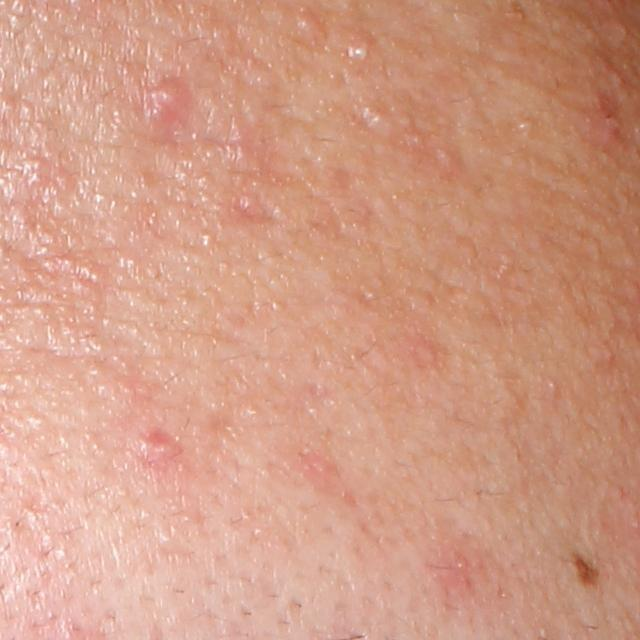comedo: (360, 105, 397, 136), (295, 13, 323, 36), (514, 117, 538, 133)
nevus: (573, 551, 609, 593)
papule: (145, 74, 193, 122), (135, 425, 186, 463)
